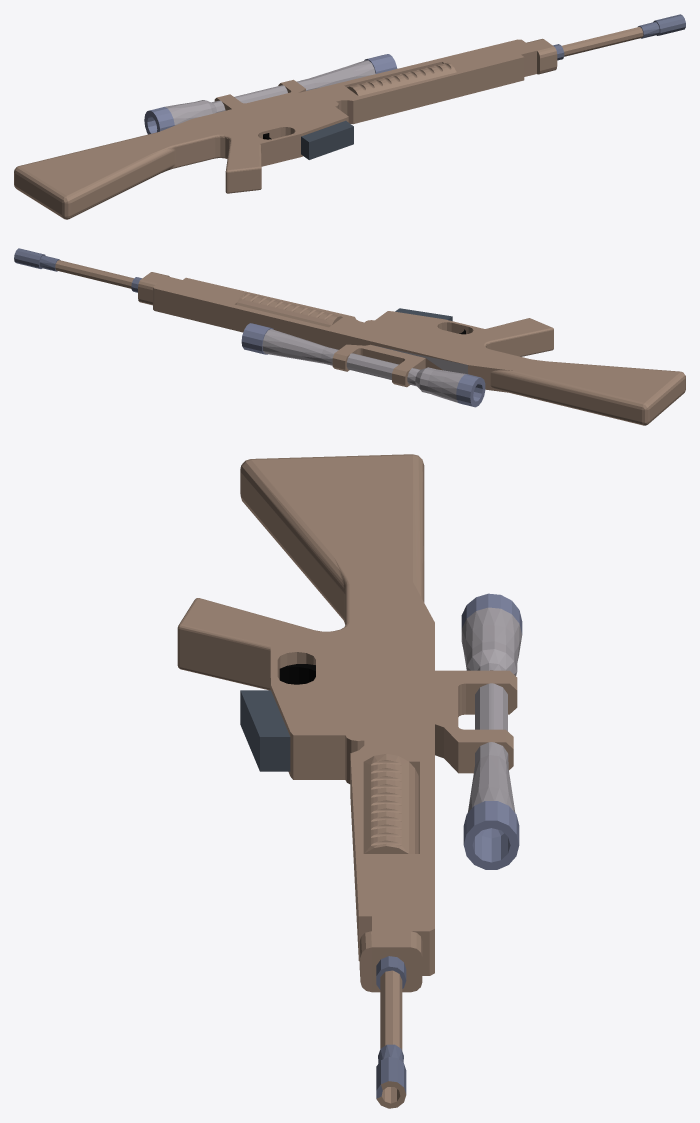
3 views of the same model, one above another, from view 1: azimuth 30°, elevation 25°; view 2: azimuth 150°, elevation 25°; view 3: azimuth 270°, elevation 25° (orthographic). The views are drawn at different scales.
Parts seen in each view (by area): view 1: gun4; view 2: gun4; view 3: gun4.
Boxes of the visible parts, x1,y1,x2,y2 form: gun4: (14, 14, 685, 219); gun4: (14, 248, 685, 425); gun4: (177, 454, 522, 1108).
Bounding box in the file's own units: 38702 × 1765 × 9057.
